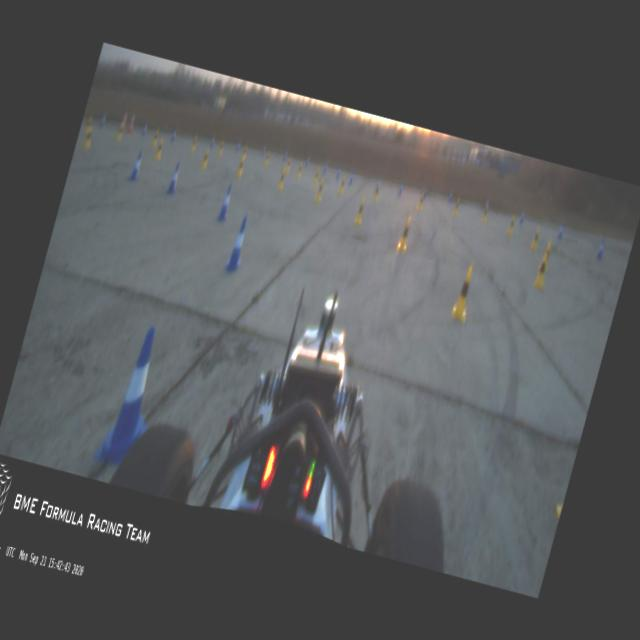blue_cone: (94, 322, 170, 468), (224, 214, 251, 272), (216, 184, 234, 222), (165, 161, 182, 196), (128, 149, 144, 181)
yellow_cone: (451, 264, 478, 318), (397, 216, 414, 250), (534, 254, 550, 286), (538, 240, 554, 272), (353, 196, 367, 225), (530, 226, 542, 252), (314, 177, 326, 202), (234, 156, 246, 178), (276, 167, 287, 190), (154, 138, 165, 160), (200, 146, 210, 170), (506, 213, 516, 234)
